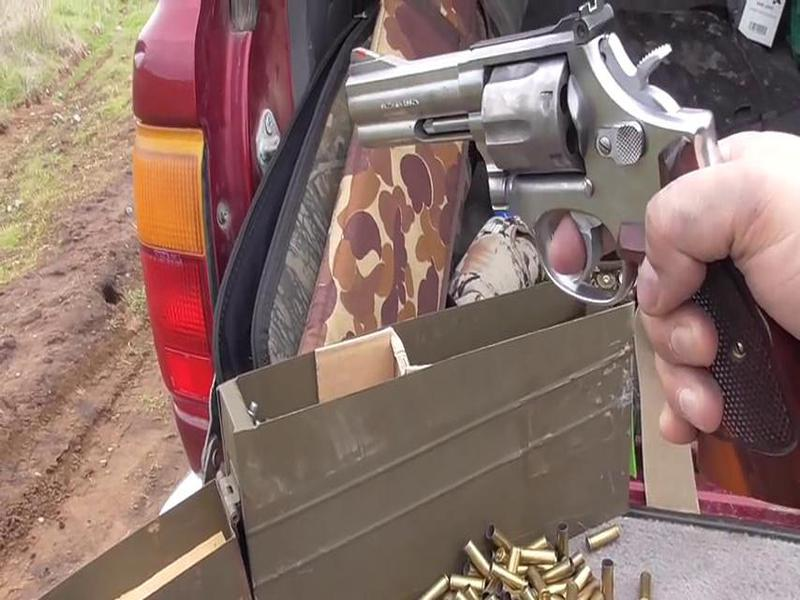Revolver: (343, 4, 778, 333)
